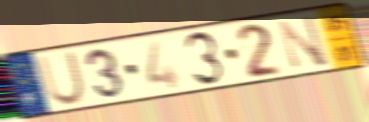2: (235, 21, 283, 80)
3: (180, 30, 226, 88), (81, 46, 129, 101)
4: (143, 38, 182, 90)
N: (275, 13, 331, 71)
U: (36, 49, 88, 108)
